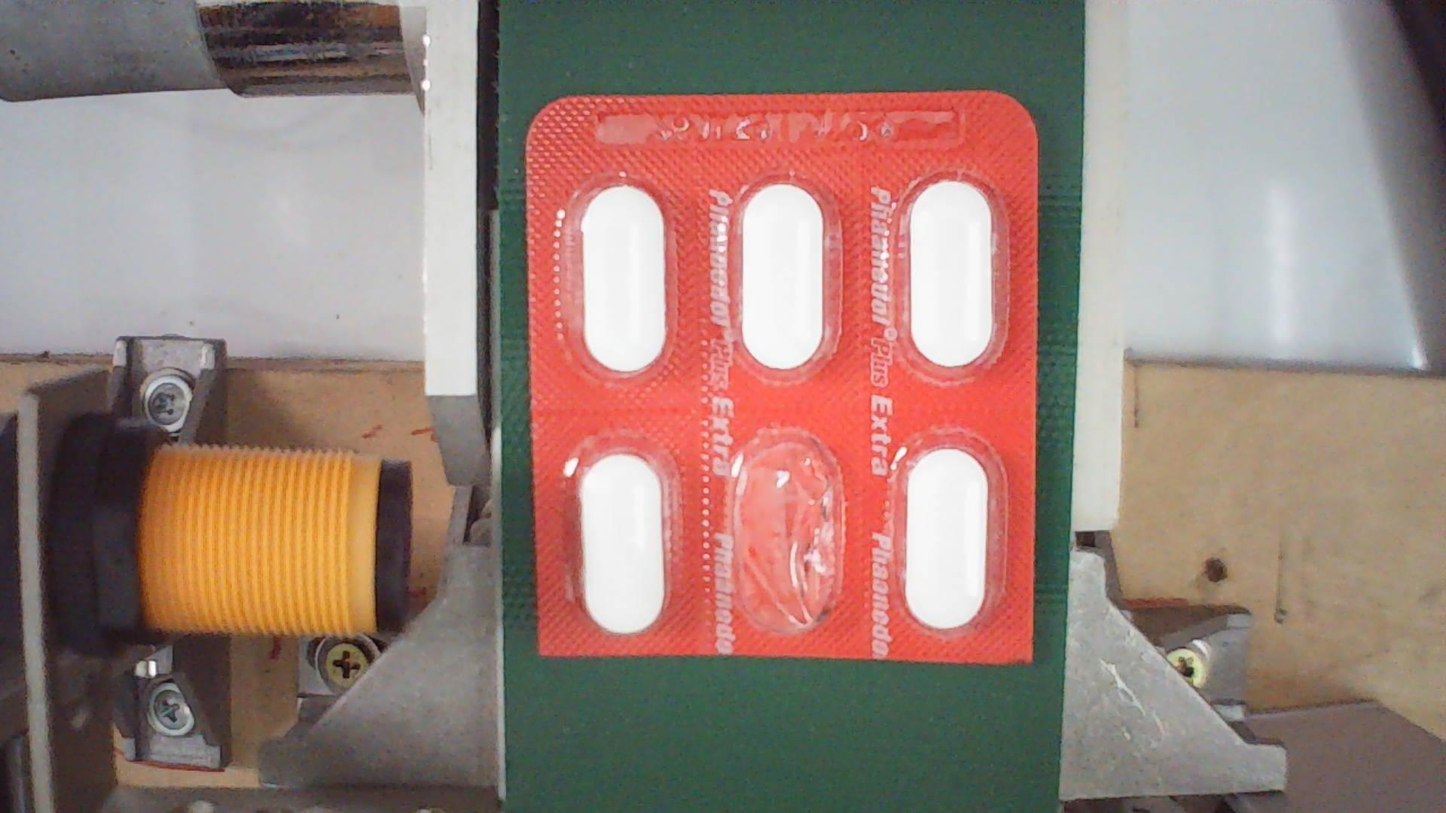Empty: (712, 414, 862, 645)
Full: (724, 175, 844, 378), (890, 437, 1009, 640), (891, 173, 1010, 376), (567, 180, 686, 383), (565, 435, 684, 638)
